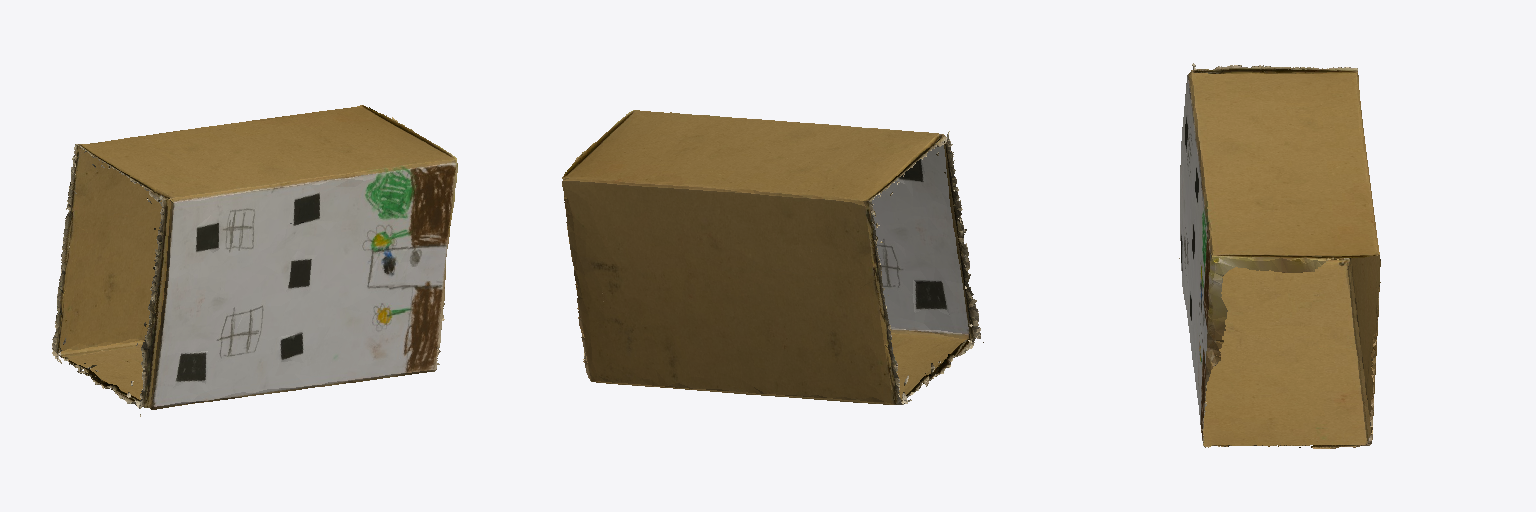
The picture shows the model from 3 angles: view 1: azimuth 30°, elevation 25°; view 2: azimuth 150°, elevation 25°; view 3: azimuth 270°, elevation 25°; orthographic projection.
Bounding box in the file's own units: 1.89 × 1.34 × 0.9741.
Materials: 1 (1 with a texture image).